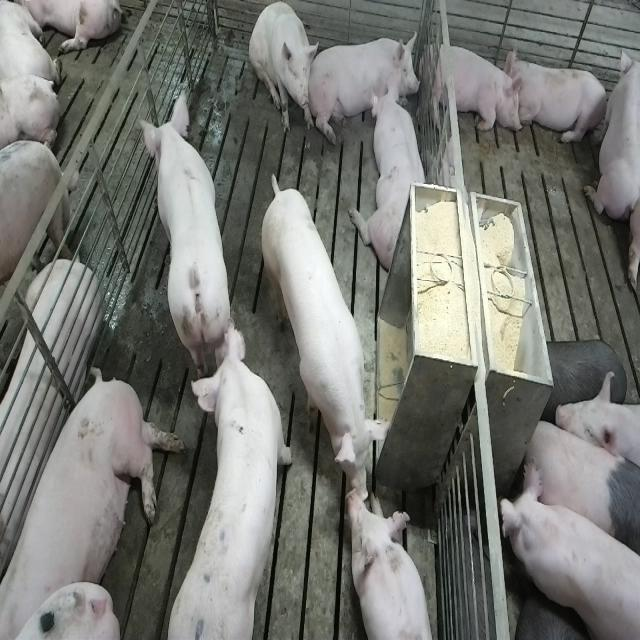Lateral_lying: (4, 367, 186, 640), (0, 260, 103, 579)
Sitting: (248, 2, 318, 139)
Standing: (167, 312, 296, 636), (260, 176, 392, 488), (138, 84, 234, 374), (498, 464, 639, 640), (519, 416, 638, 567), (0, 141, 77, 355), (538, 335, 634, 424)
Sternal_lying: (356, 83, 430, 274), (347, 491, 435, 640), (313, 28, 419, 137), (584, 36, 637, 224), (508, 52, 610, 149), (425, 38, 521, 138)
